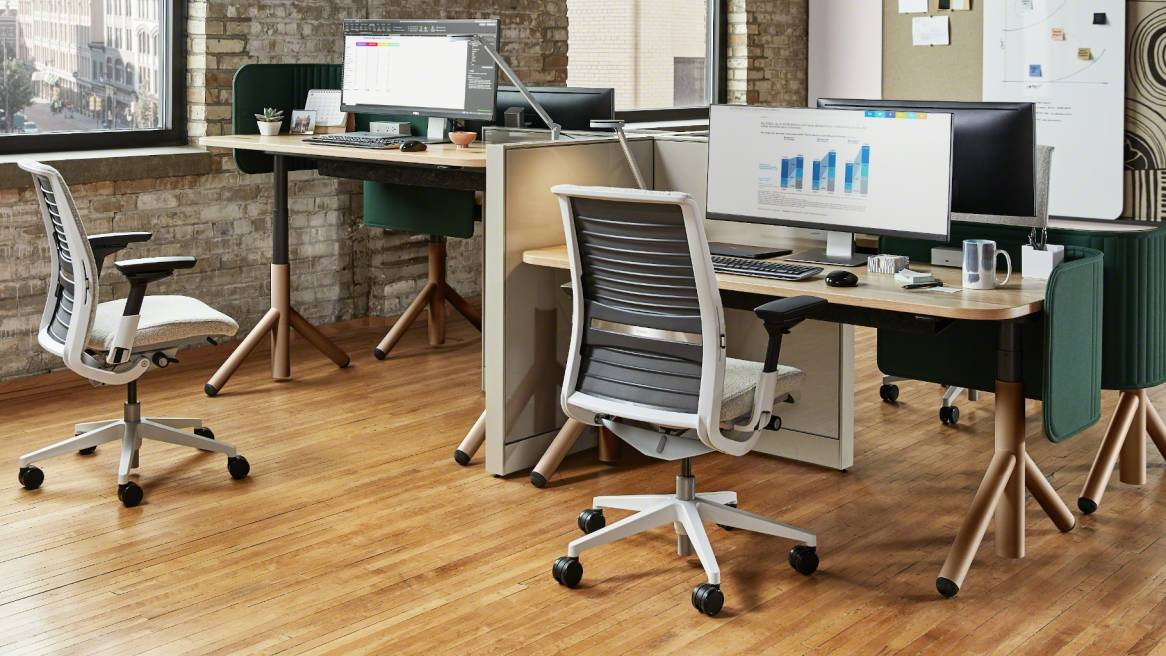chair: (531, 177, 852, 631), (9, 144, 273, 526)
computer: (703, 95, 962, 302), (330, 11, 505, 137)
table: (518, 183, 1124, 620), (191, 93, 546, 397)
